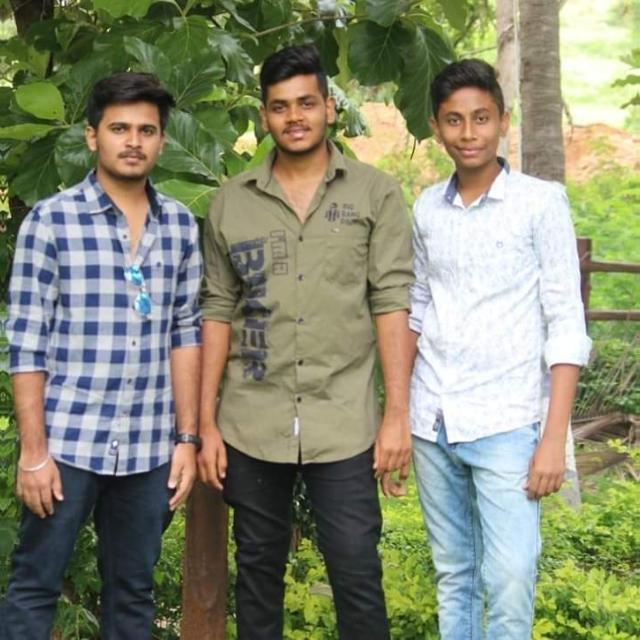person: (384, 47, 613, 640), (196, 47, 405, 640), (17, 69, 209, 623)
